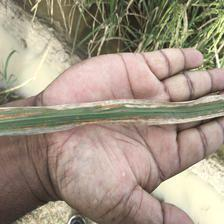2 BacterialBlight: (6, 95, 219, 122)
